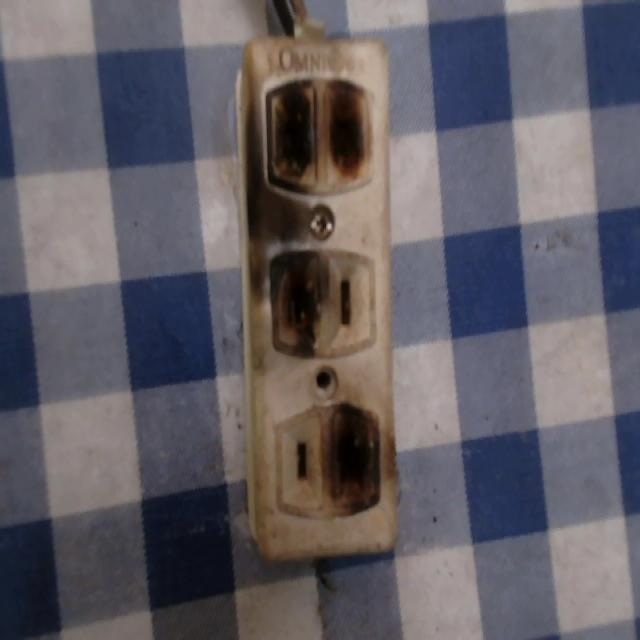-: (256, 75, 380, 189), (319, 398, 389, 522), (261, 252, 327, 344)
